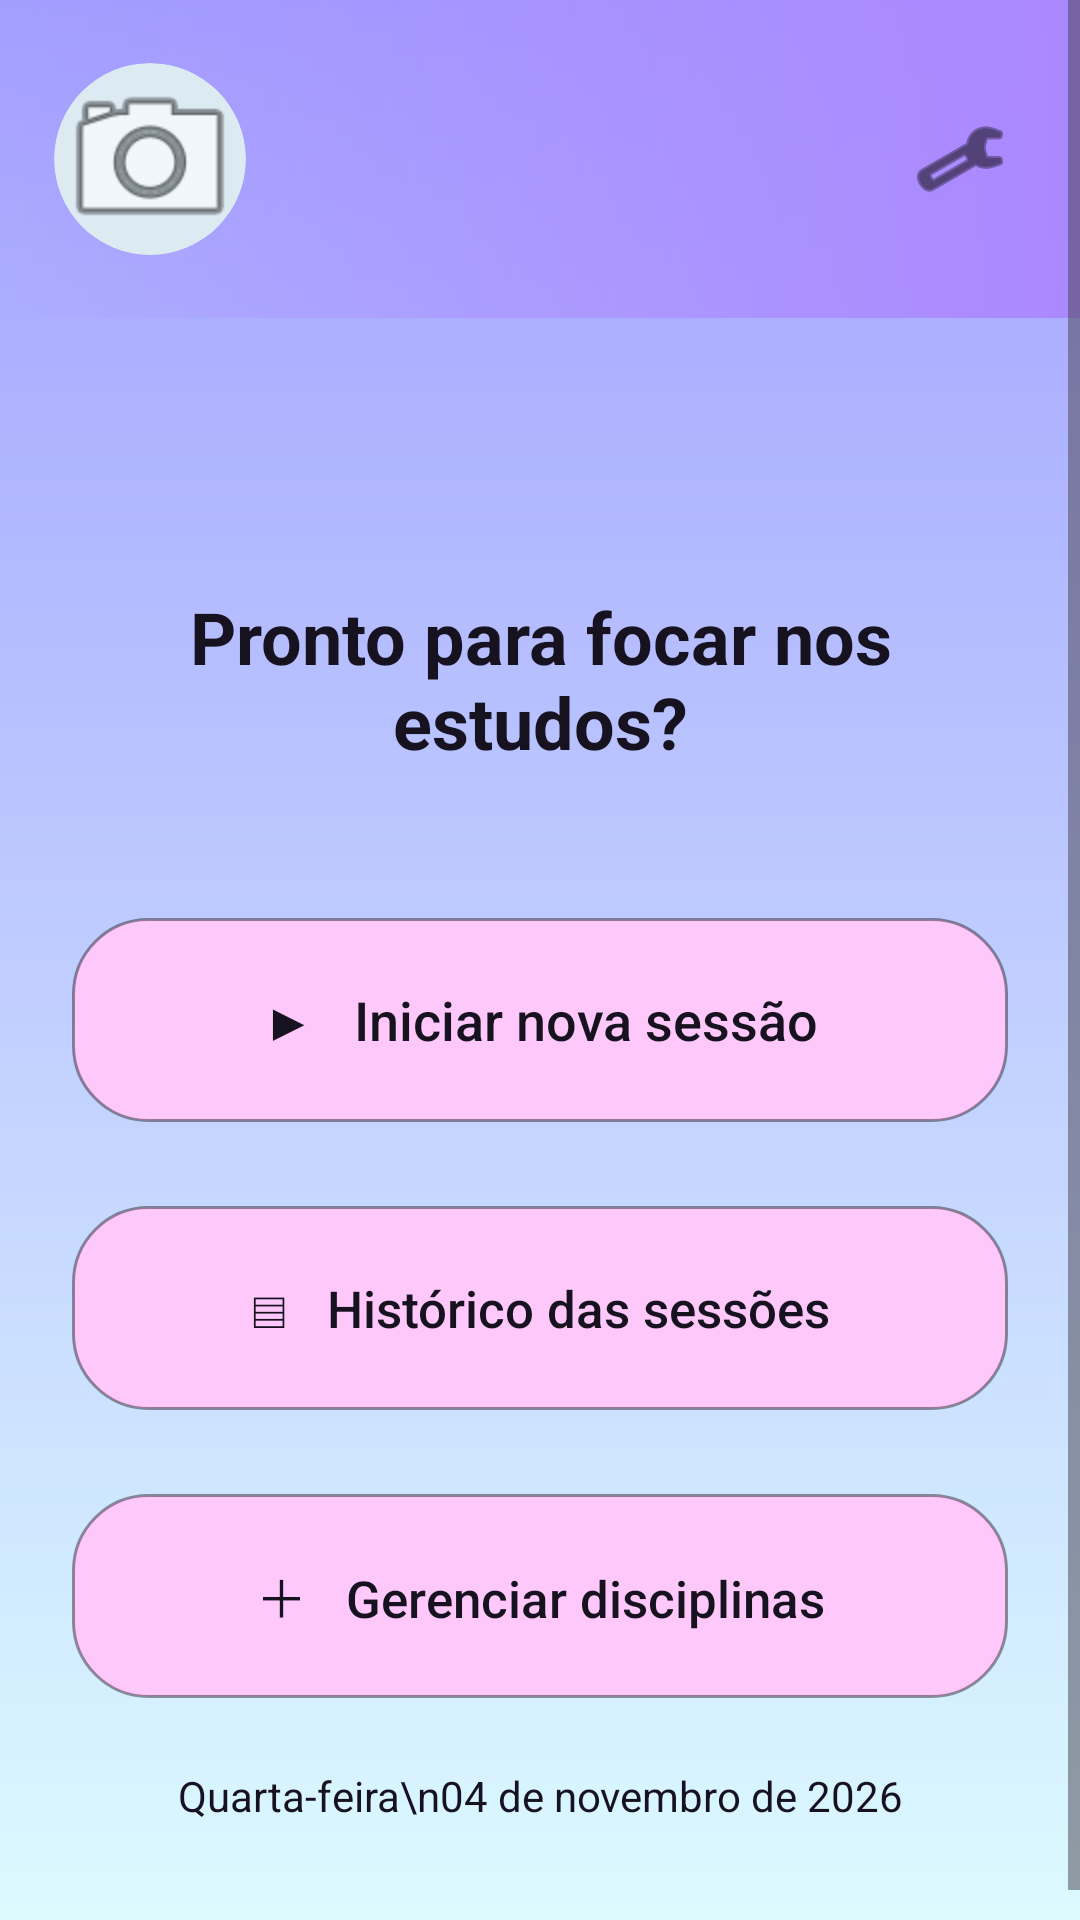

Icons on this 1080 × 1920 Android screen, each with its box as {"left": x1, "top": y1, "right": x2, "bottom": y2}:
Configurações: {"left": 917, "top": 126, "right": 1003, "bottom": 192}
Foto do perfil: {"left": 54, "top": 63, "right": 246, "bottom": 255}
